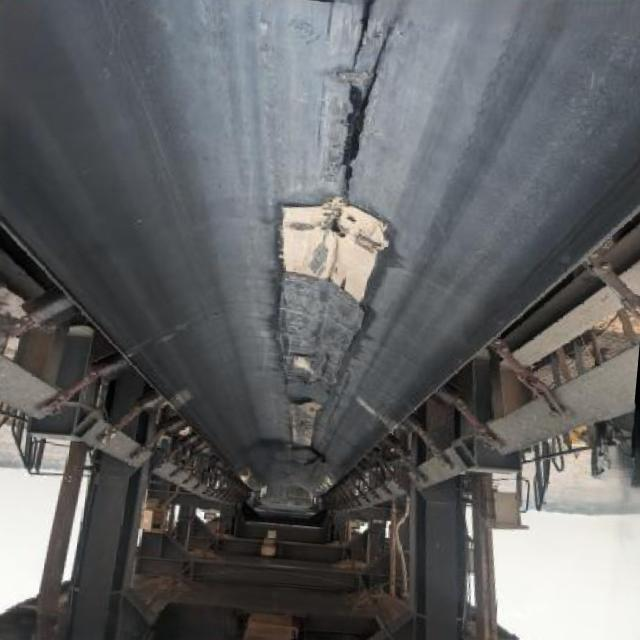Hole: (328, 215, 350, 244)
Tear: (322, 0, 412, 204)
